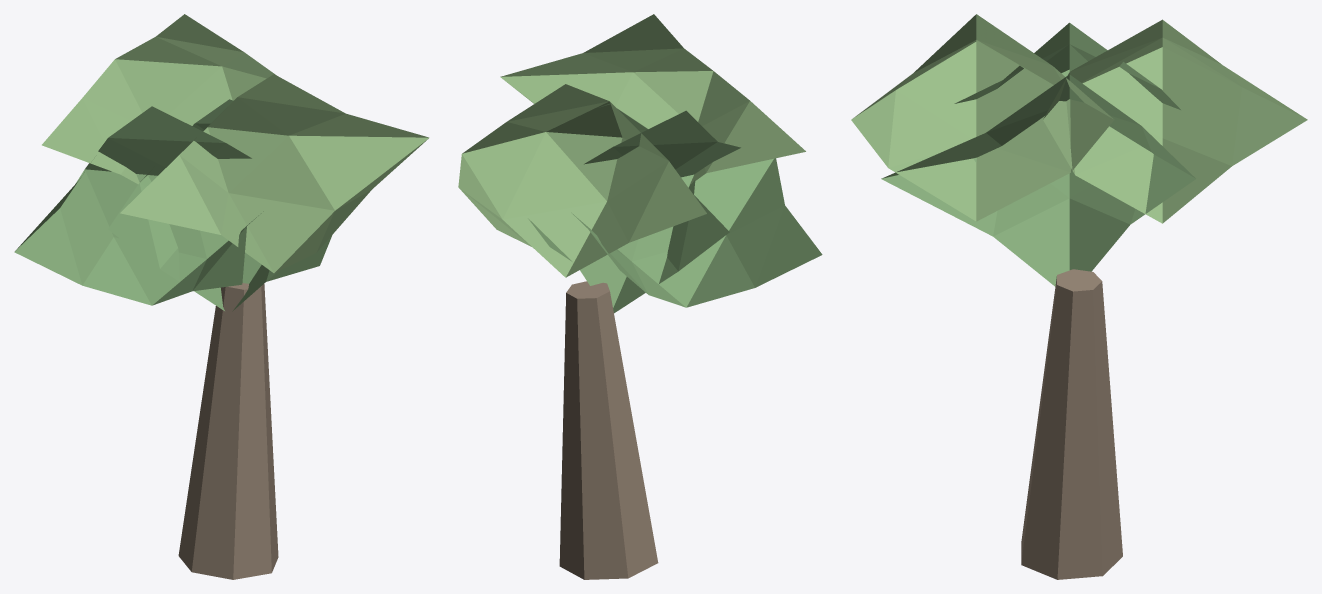
The model's file is broadleaf_v00.glb.
3 renders of one model, left to right at view 1: azimuth 30°, elevation 25°; view 2: azimuth 150°, elevation 25°; view 3: azimuth 270°, elevation 25°, orthographic. The views are drawn at different scales.
Visible parts, largest first — view 1: lod0; view 2: lod0; view 3: lod0.
Part boxes in pixels (x1,y1,x2,y2): lod0: (14,14,429,579); lod0: (458,14,822,579); lod0: (851,14,1307,579).
Size of what is drawn, in the model's own units: 3 by 4.03 by 3.07.
